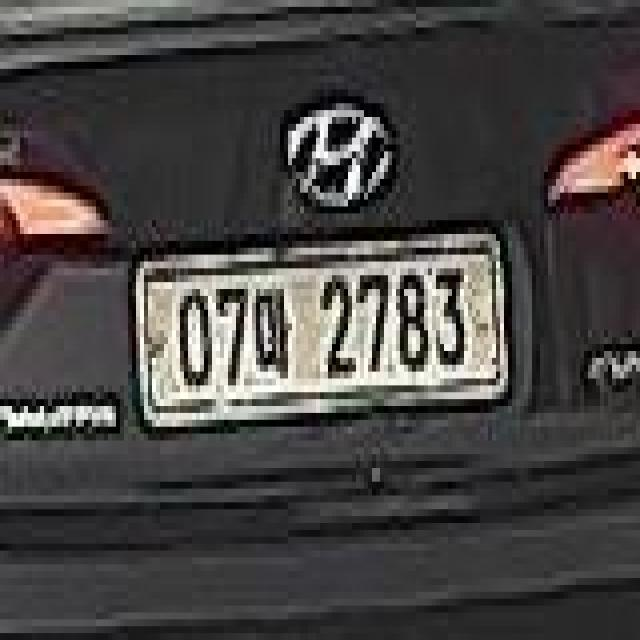illegal_plate: (128, 228, 513, 433)
